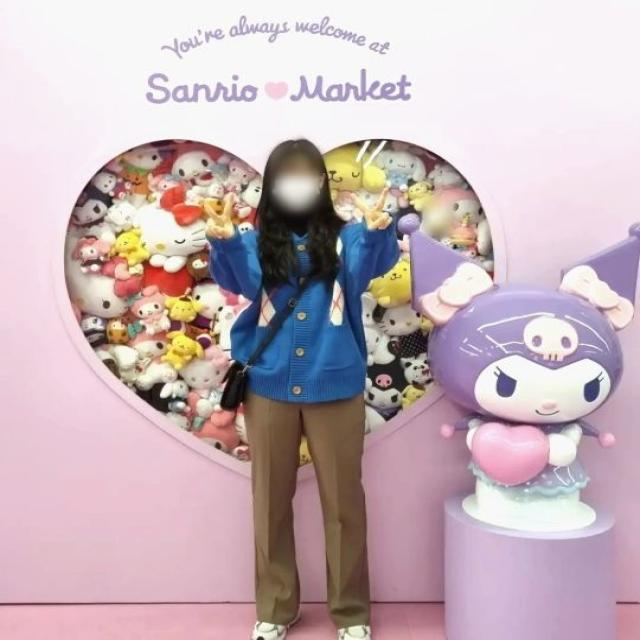cardigan: (204, 217, 403, 399)
slacks: (243, 368, 373, 628)
